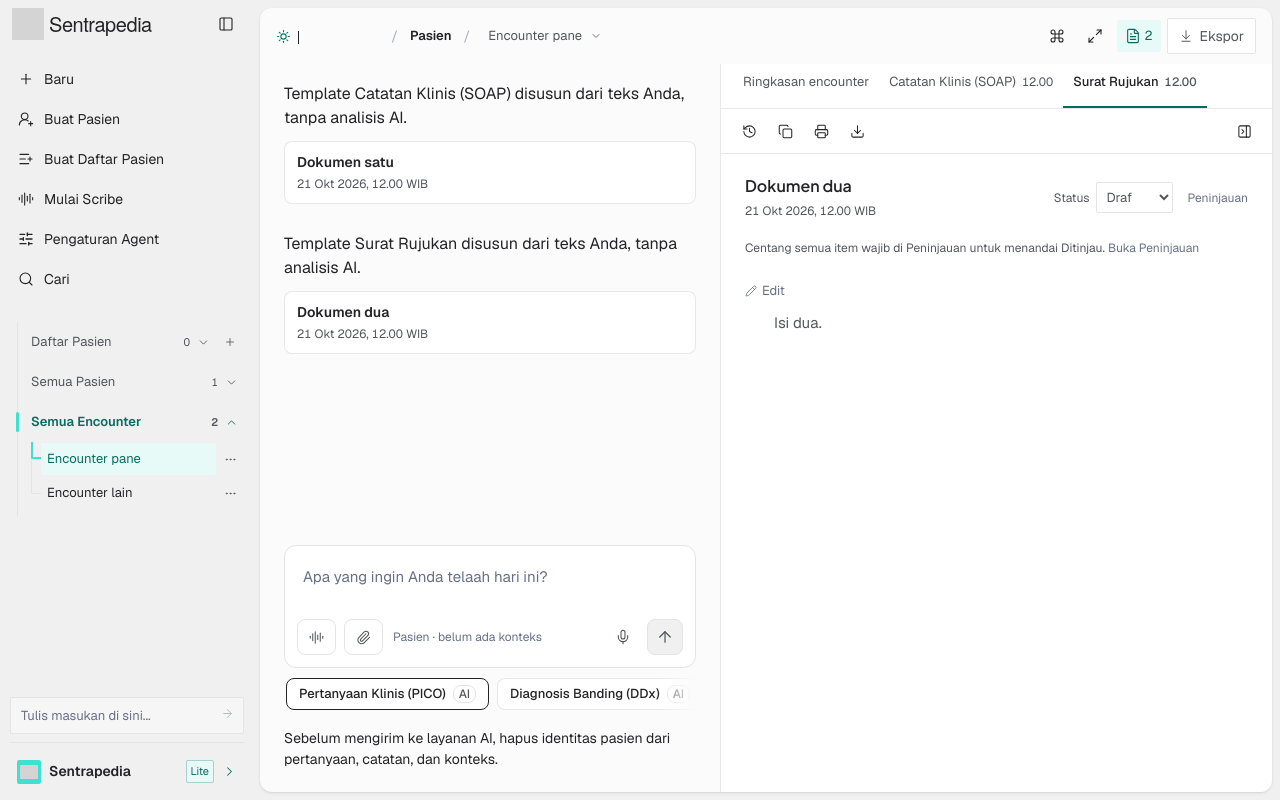
Test: the document pane › remembers each encounter's open document across a switch to another encounter
What coordinates should you click on to do the following:
click the tab "Catatan Klinis (SOAP) 12.00"
I would click on:
 (971, 90)
Its box is 879,72 -> 1063,108.
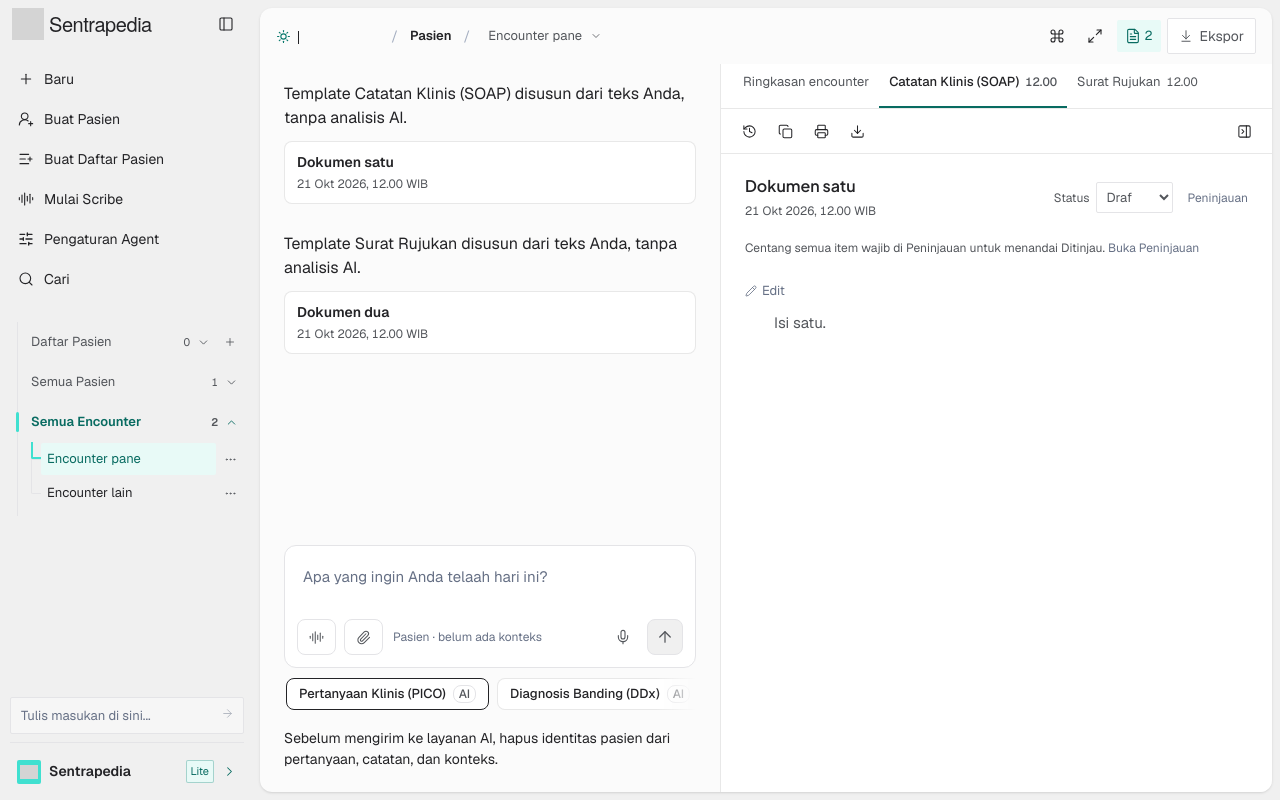
What coordinates should you click on to do the following:
click the button titled "Encounter lain"
I would click on:
 (128, 493)
Its box is 41,477 -> 216,509.
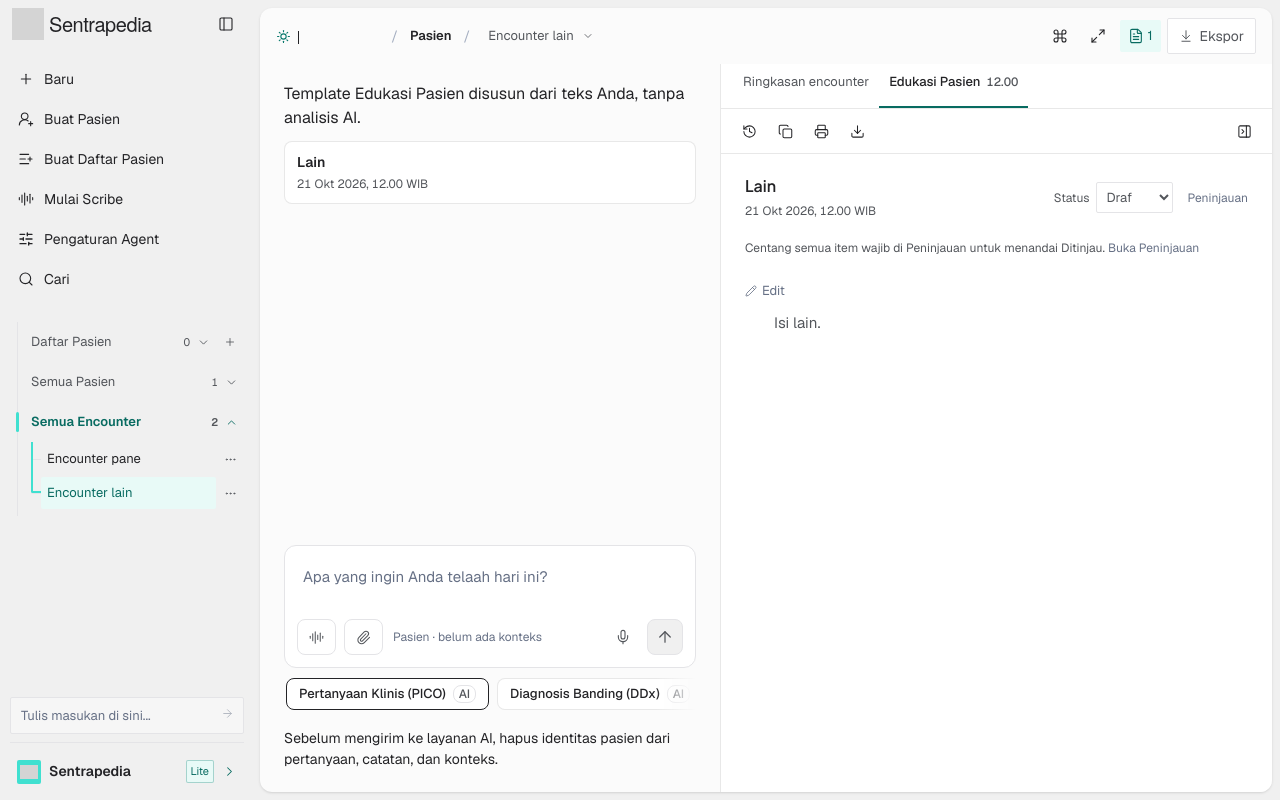
What coordinates should you click on to do the following:
click the button titled "Encounter pane"
I would click on:
 (128, 459)
Its box is 41,443 -> 216,475.
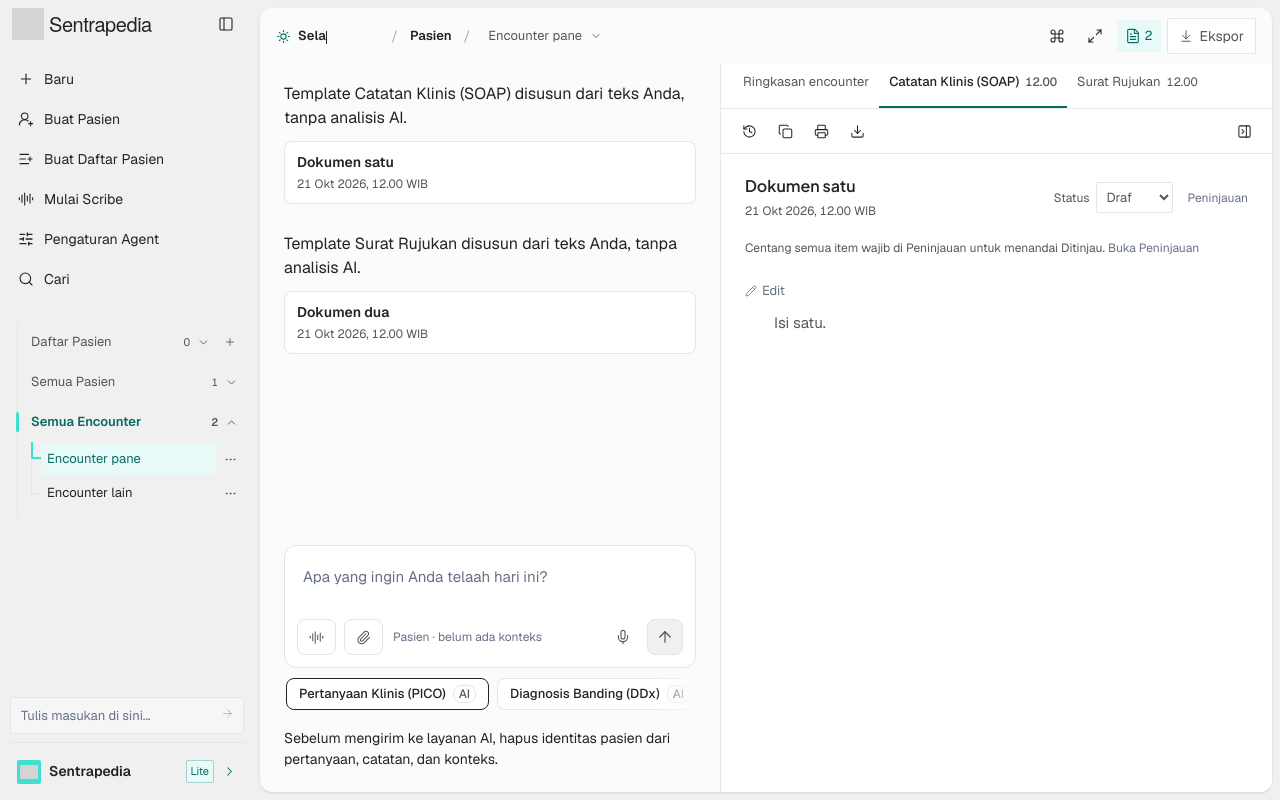
Result: the tab "Catatan Klinis (SOAP) 12.00" is selected at 879,72 -> 1067,108
